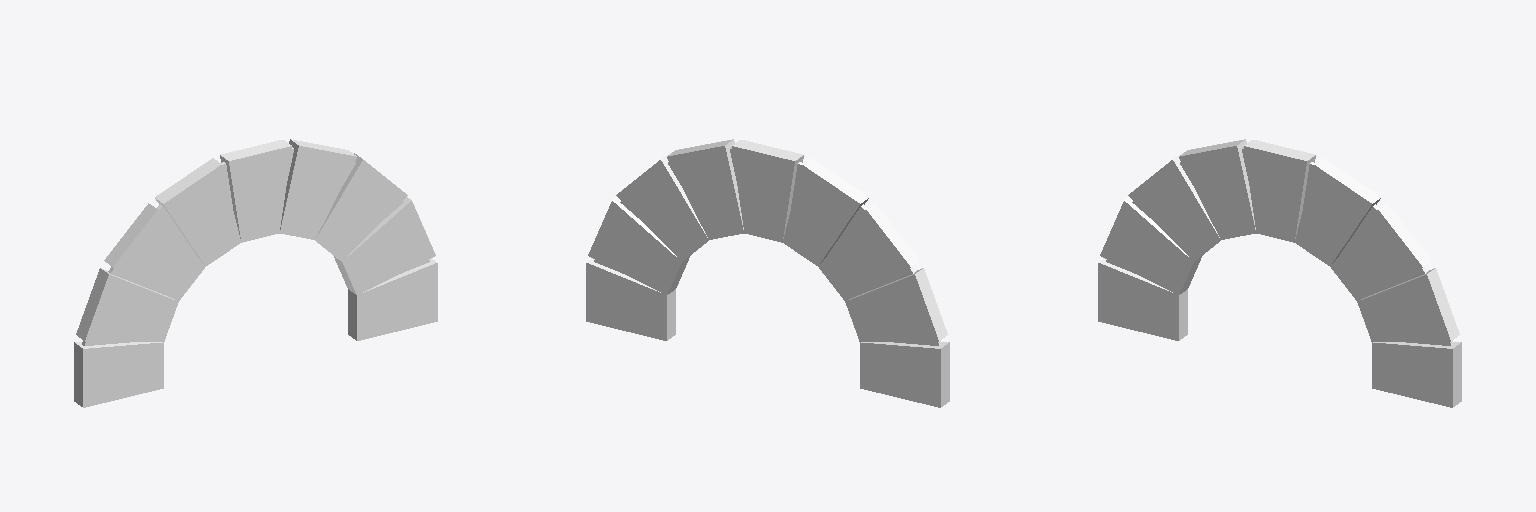
File: generic_facade_round_arch_1.obj
3 views of the same model, side by side, from view 1: azimuth 30°, elevation 25°; view 2: azimuth 150°, elevation 25°; view 3: azimuth 330°, elevation 25° (orthographic).
Visible parts, largest first — view 1: arch_1, arch_1_inner; view 2: arch_1, arch_1_inner; view 3: arch_1, arch_1_inner.
Boxes of the visible parts, <box> form: arch_1: <box>74,139,437,407</box>; arch_1_inner: <box>82,147,429,345</box>; arch_1: <box>586,139,949,407</box>; arch_1_inner: <box>594,147,941,345</box>; arch_1: <box>1098,139,1461,407</box>; arch_1_inner: <box>1106,147,1453,345</box>.
Bounding box in the file's own units: 1.78 × 1.02 × 0.0781.